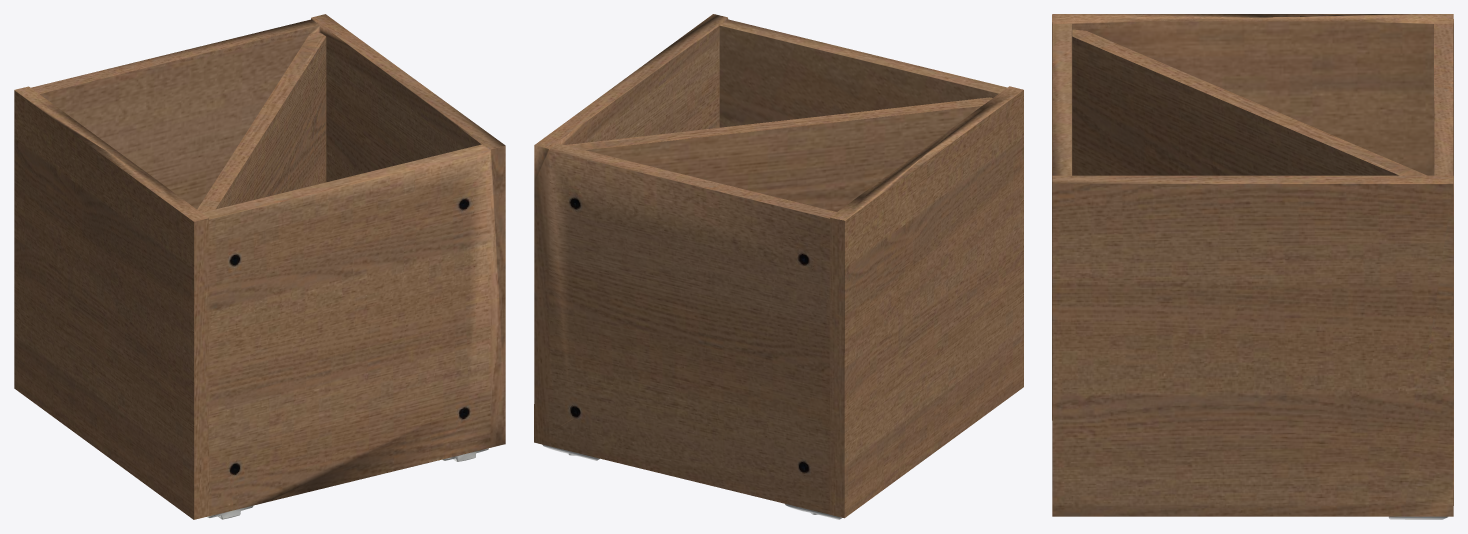
3 views of the same model, side by side, from view 1: azimuth 30°, elevation 25°; view 2: azimuth 150°, elevation 25°; view 3: azimuth 270°, elevation 25° (orthographic). The views are drawn at different scales.
Parts seen in each view (by area): view 1: ProcessedMeshNode; view 2: ProcessedMeshNode; view 3: ProcessedMeshNode.
Part boxes in pixels (x1,y1,x2,y2): ProcessedMeshNode: [14, 14, 505, 519]; ProcessedMeshNode: [534, 14, 1023, 519]; ProcessedMeshNode: [1052, 14, 1453, 519].
Bounding box in the file's own units: 0.4003 × 0.3766 × 0.4002.
Materials: 1 (1 with a texture image).
